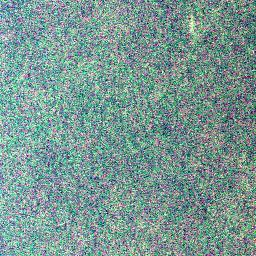Ship: (186, 14, 198, 33)
